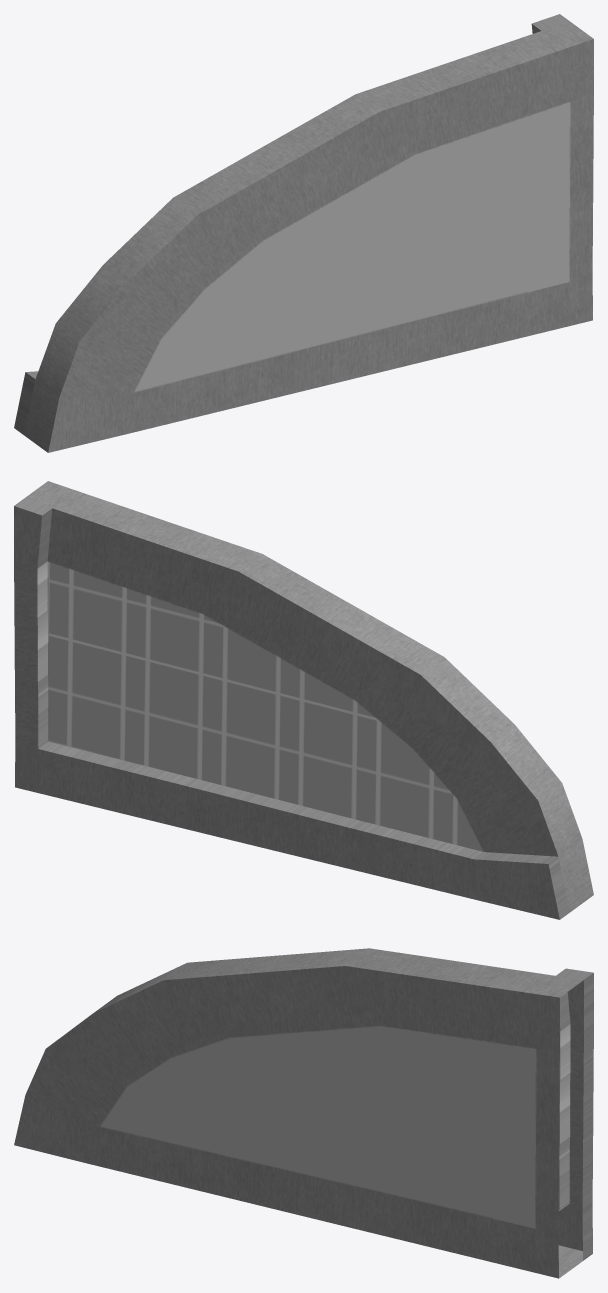
Rendered from MallCeilingLeftEnd_FIXED (1).fbx.
3 renders of one model, top to bottom at view 1: azimuth 30°, elevation 25°; view 2: azimuth 150°, elevation 25°; view 3: azimuth 330°, elevation 25°, orthographic.
Visible parts, largest first — view 1: polySurface9; view 2: polySurface9; view 3: polySurface9.
Part boxes in pixels (left/top/right/bottom): polySurface9: left=14, top=14, right=593, bottom=452; polySurface9: left=14, top=481, right=593, bottom=919; polySurface9: left=14, top=948, right=593, bottom=1278.
Bounding box in the file's own units: 9.59 × 4.72 × 1.04.
Materials: 1 (1 with a texture image).
